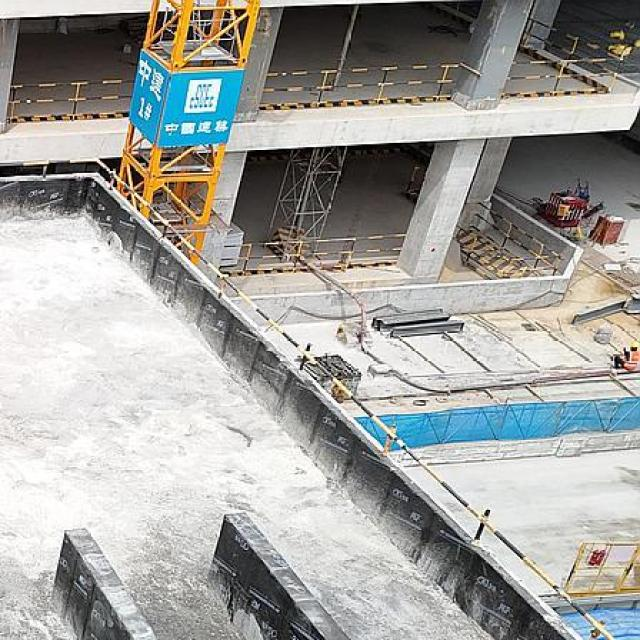edge_guardrail: (0, 155, 618, 640), (503, 14, 626, 95), (260, 61, 460, 103), (218, 232, 411, 271), (473, 200, 564, 277), (7, 79, 136, 117)
